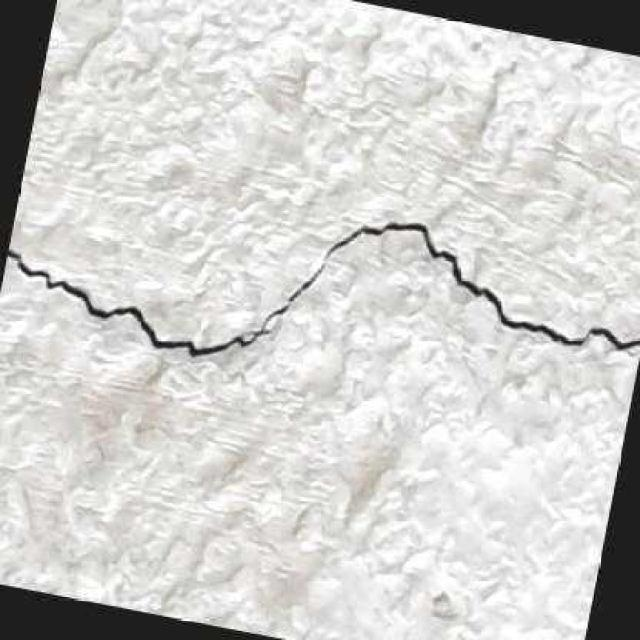D00: (6, 220, 640, 357)
